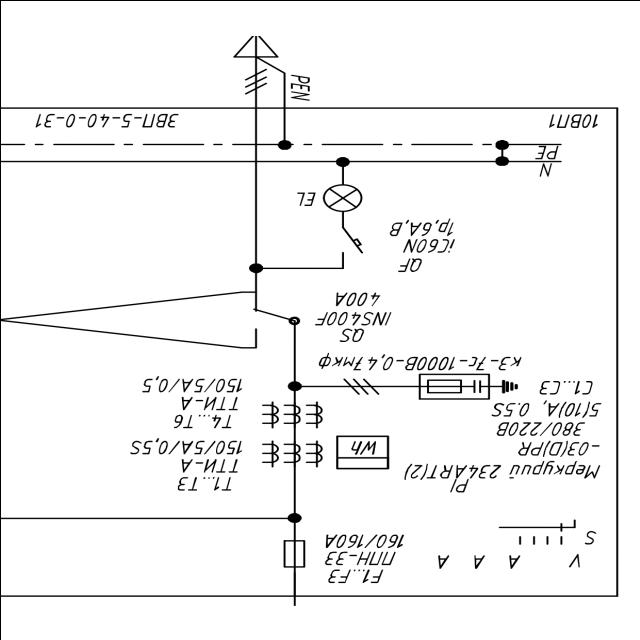-: (400, 402, 604, 479), (126, 437, 244, 473), (136, 374, 246, 412), (27, 110, 181, 132), (309, 286, 393, 324), (321, 530, 408, 566), (379, 218, 461, 254)
FU: (280, 536, 310, 570)
HL: (319, 183, 363, 213)
PA: (502, 550, 525, 574), (467, 550, 490, 574), (429, 550, 452, 574)
PV: (565, 550, 585, 570)
QF: (336, 225, 364, 256)
S: (495, 514, 597, 546)
TT: (258, 438, 324, 468), (258, 400, 323, 430)
WH: (332, 430, 393, 470)
switch: (248, 294, 295, 346)
